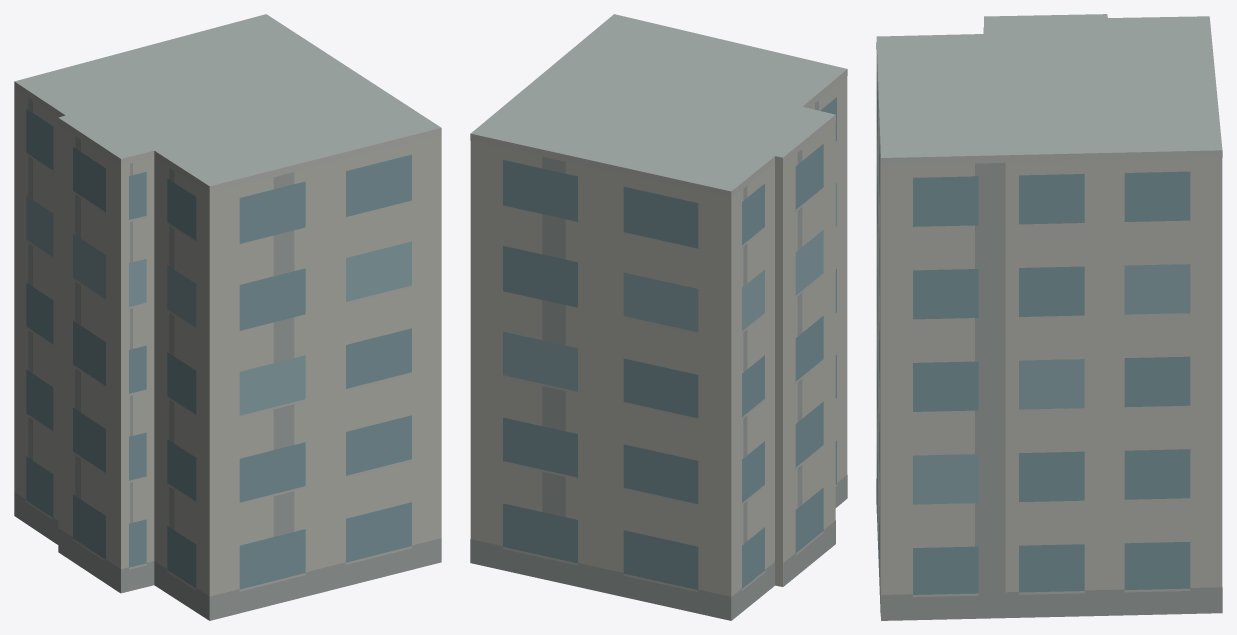
Rendered from survey-upis-32966014.glb.
3 renders of one model, left to right at view 1: azimuth 30°, elevation 25°; view 2: azimuth 150°, elevation 25°; view 3: azimuth 270°, elevation 25°, orthographic. The views are drawn at different scales.
Parts seen in each view (by area): view 1: survey-upis-32966014.tmp; view 2: survey-upis-32966014.tmp; view 3: survey-upis-32966014.tmp.
Part boxes in pixels (x1=…): survey-upis-32966014.tmp: x1=14, y1=14, x2=441, y2=620; survey-upis-32966014.tmp: x1=470, y1=14, x2=847, y2=620; survey-upis-32966014.tmp: x1=876, y1=14, x2=1222, y2=620.
Size of the model in its own units: 9.97 by 14.93 by 10.13.
